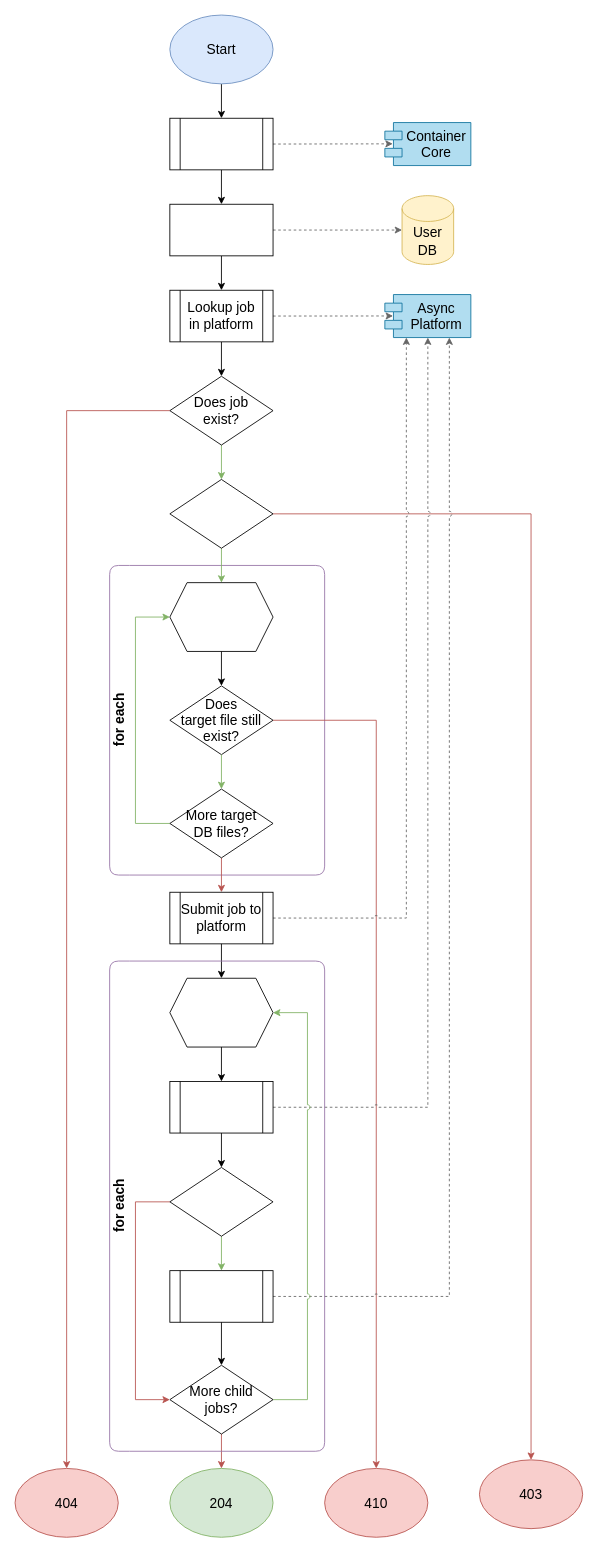
The diagram is 598 pixels wide and 1552 high, and some of its shapes have lost their labels. Each missing label, with the box of its shape:
For each child job: (169, 977, 273, 1047)
For each target BLAST DB file: (169, 582, 273, 651)
Is child job expired?: (169, 1167, 273, 1236)
Is job expired?: (169, 479, 273, 548)
Lookup child job in platform: (169, 1081, 273, 1133)
Lookup job in user DB: (169, 203, 273, 256)
Lookup request user: (169, 117, 273, 170)
Submit child job to platform: (169, 1270, 273, 1322)
